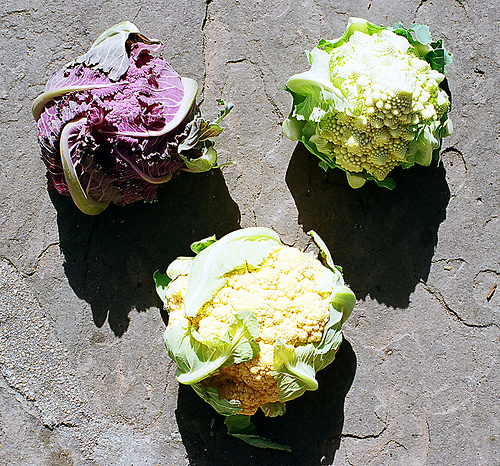cauliflower: (153, 224, 356, 418), (32, 22, 233, 214), (283, 15, 454, 186)
